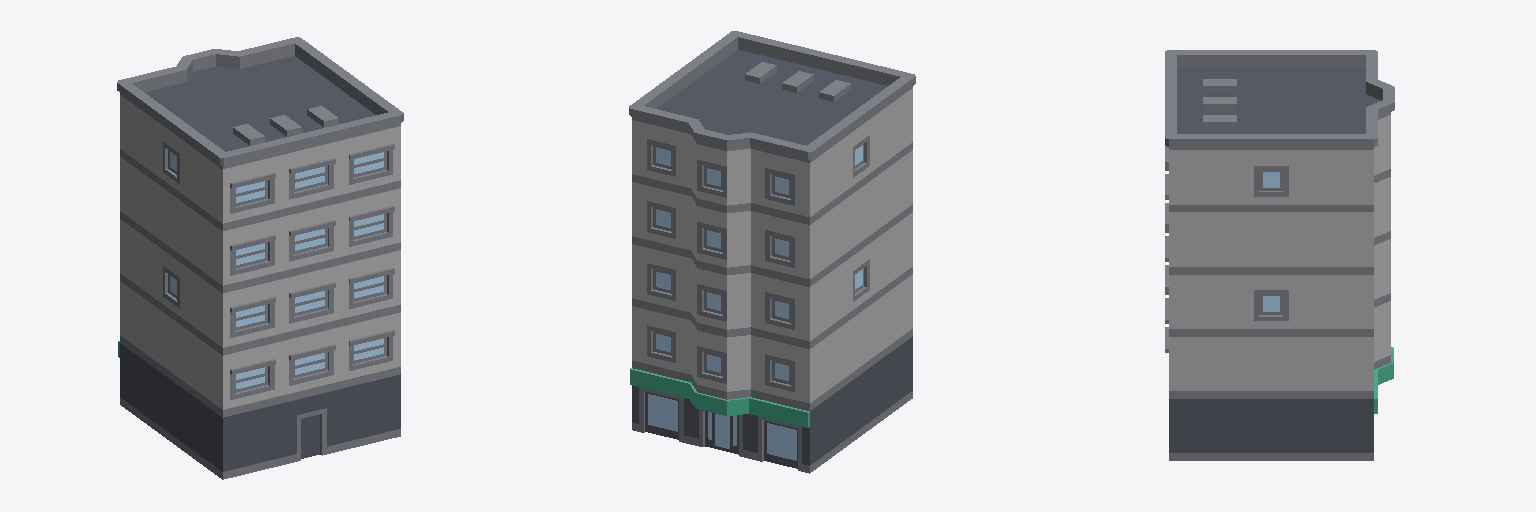
Rendered from large_buildingE.obj.
3 views of the same model, side by side, from view 1: azimuth 30°, elevation 25°; view 2: azimuth 150°, elevation 25°; view 3: azimuth 270°, elevation 25° (orthographic).
Visible parts, largest first — view 1: large_buildingE; view 2: large_buildingE; view 3: large_buildingE.
Part boxes in pixels (x1,y1,x2,y2): large_buildingE: (117,37,403,479); large_buildingE: (629,31,915,473); large_buildingE: (1165,50,1394,460).
Size of the model in its own units: 1.24 by 2.08 by 1.34.